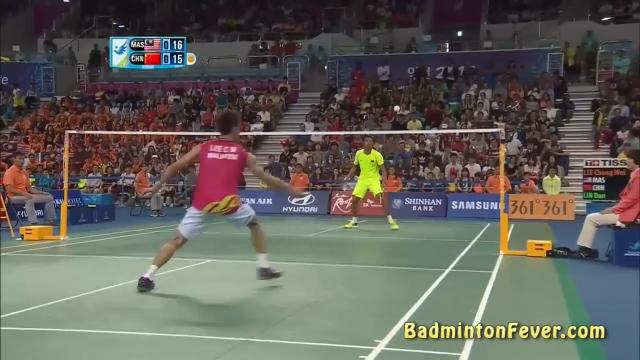Shuttlecock: (392, 102, 402, 114)
